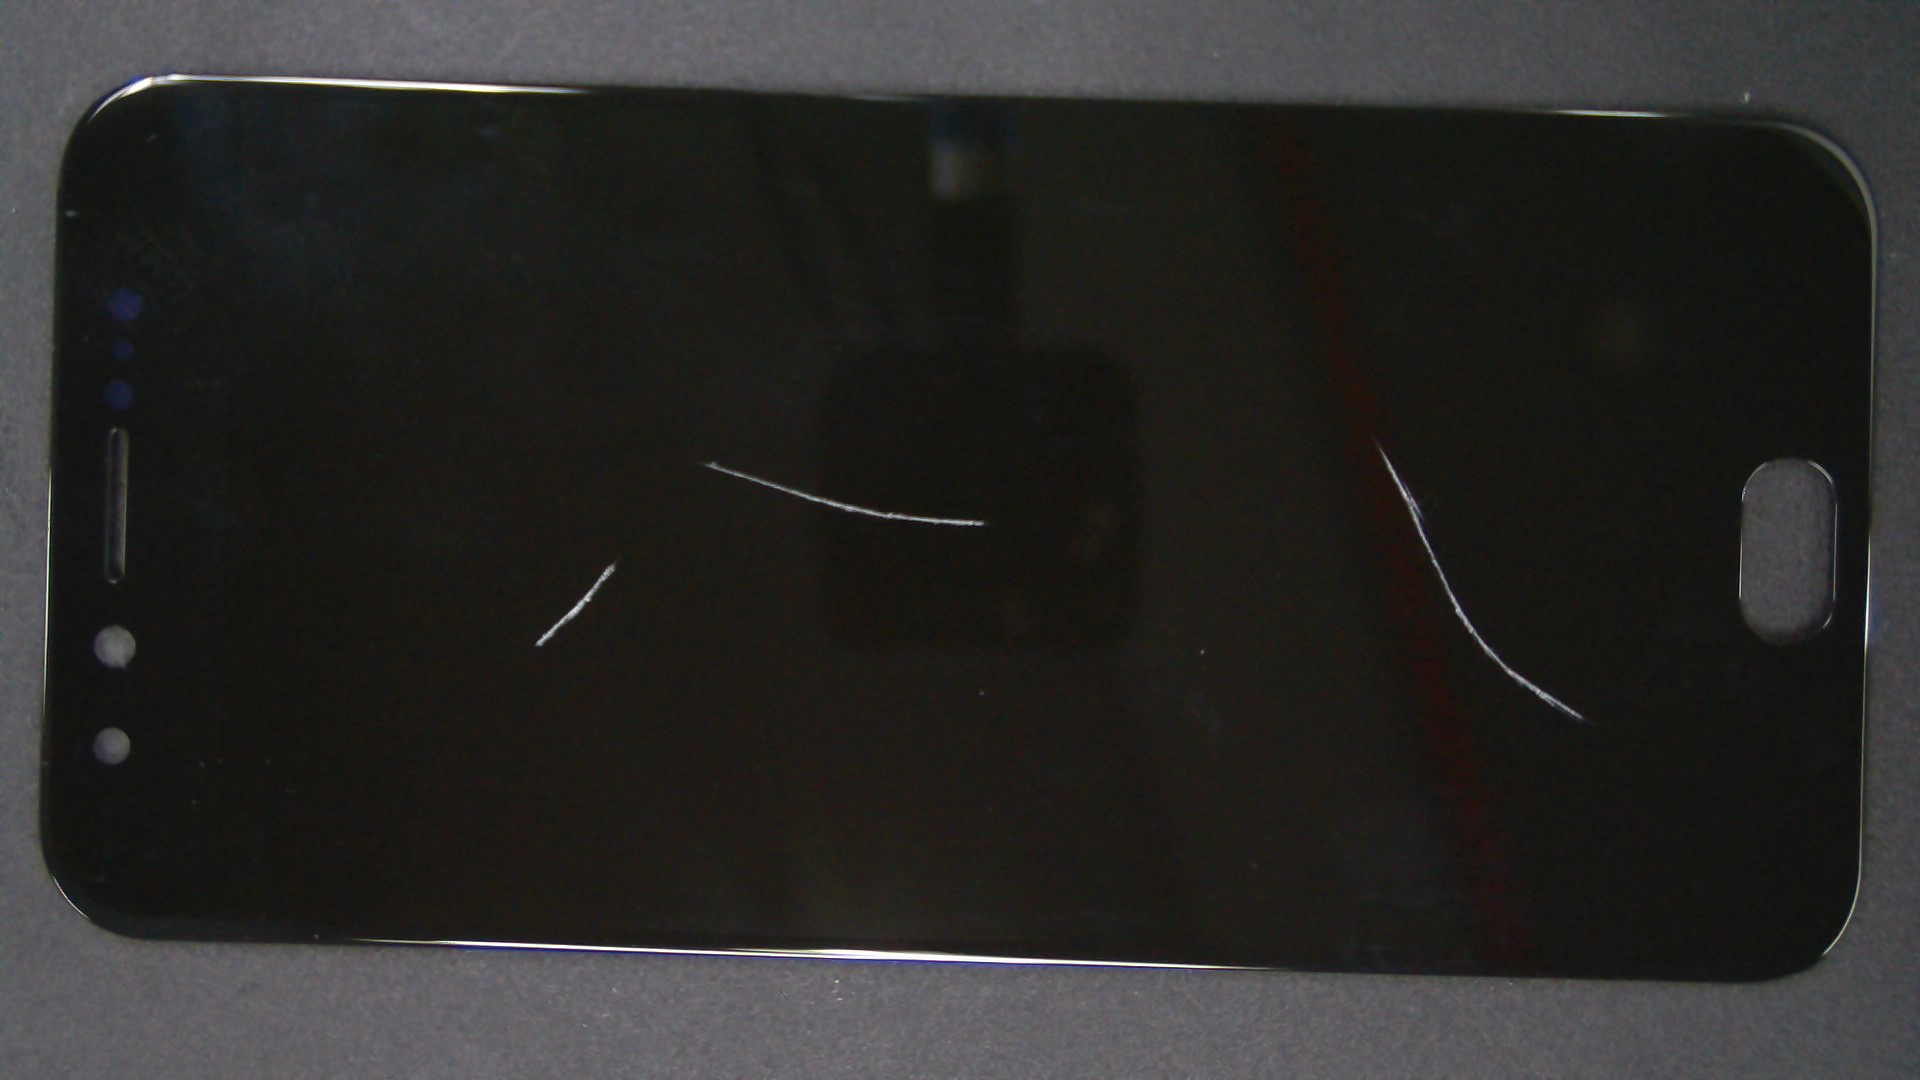defect: (1379, 444, 1582, 721), (702, 462, 984, 526), (535, 563, 615, 647)
